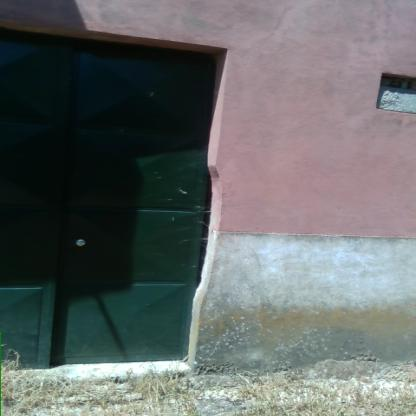closed: (0, 20, 223, 391)
